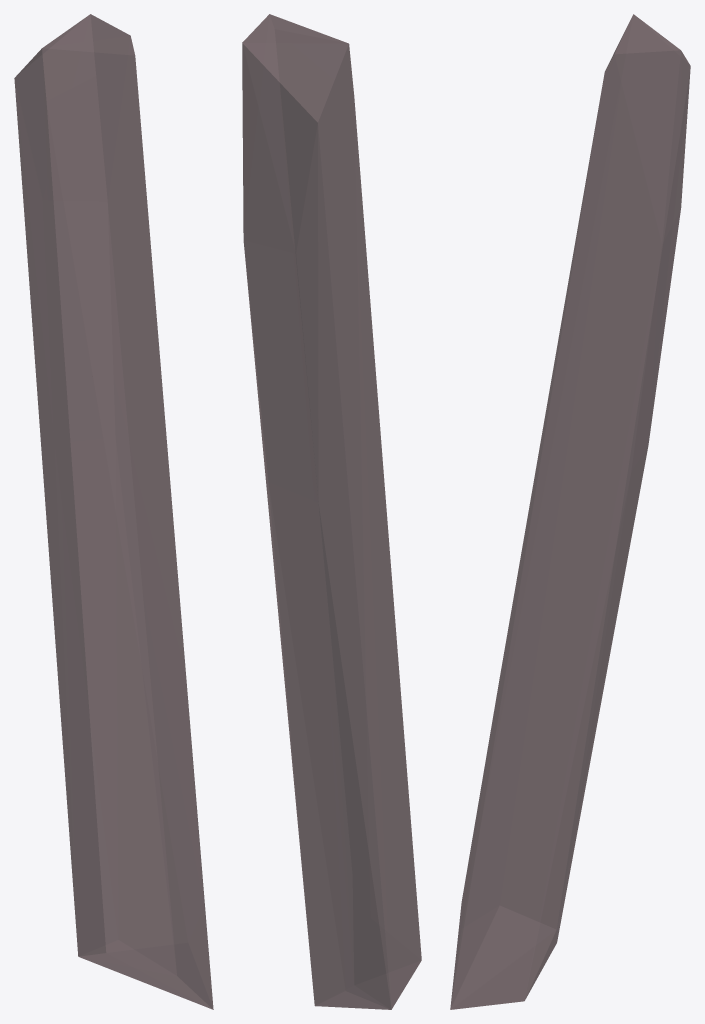
3 renders of one model, left to right at view 1: azimuth 30°, elevation 25°; view 2: azimuth 150°, elevation 25°; view 3: azimuth 270°, elevation 25°, orthographic. The views are drawn at different scales.
Visible parts, largest first — view 1: Shape_IndexedFaceSet.039_Shape_IndexedFaceSet.6446; view 2: Shape_IndexedFaceSet.039_Shape_IndexedFaceSet.6446; view 3: Shape_IndexedFaceSet.039_Shape_IndexedFaceSet.6446.
Part boxes in pixels (<box>): Shape_IndexedFaceSet.039_Shape_IndexedFaceSet.6446: <box>14,14,213,1009</box>; Shape_IndexedFaceSet.039_Shape_IndexedFaceSet.6446: <box>242,14,421,1009</box>; Shape_IndexedFaceSet.039_Shape_IndexedFaceSet.6446: <box>450,14,690,1009</box>.
Size of the model in its own units: 0.0673 by 0.7019 by 0.1604.
